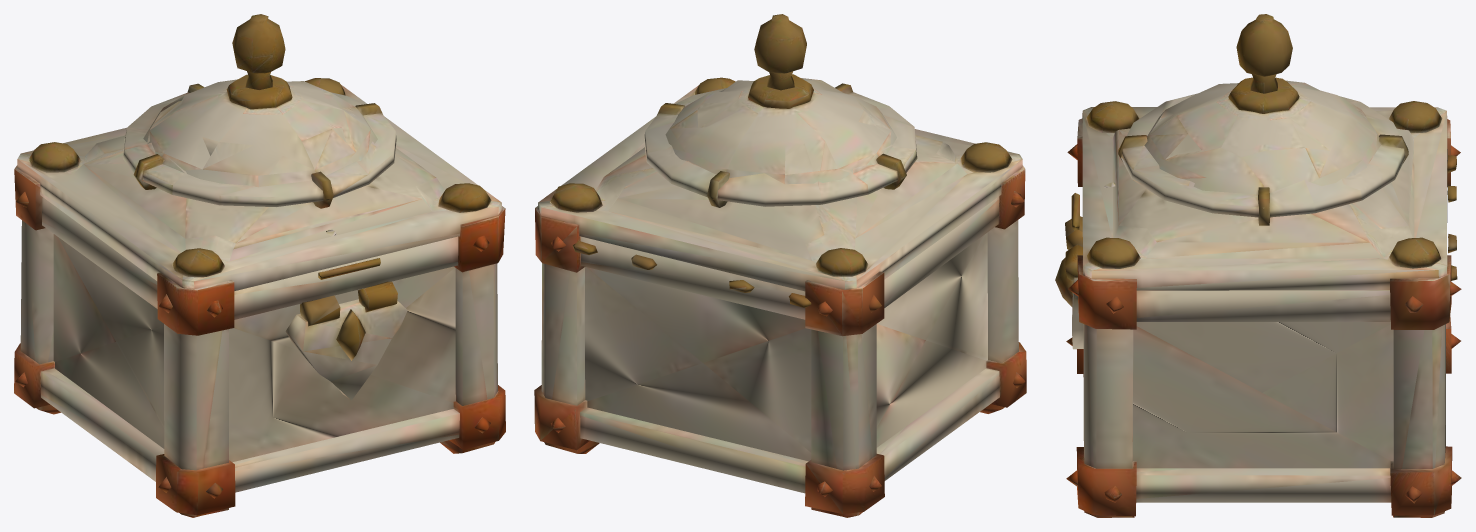
The model's file is cache-box.glb.
3 renders of one model, left to right at view 1: azimuth 30°, elevation 25°; view 2: azimuth 150°, elevation 25°; view 3: azimuth 270°, elevation 25°, orthographic. The views are drawn at different scales.
Parts seen in each view (by area): view 1: cache-box; view 2: cache-box; view 3: cache-box.
Part boxes in pixels (<box>): cache-box: <box>14,14,505,517</box>; cache-box: <box>534,14,1026,517</box>; cache-box: <box>1055,14,1461,517</box>.
Size of the model in its own units: 0.7 by 0.7846 by 0.6788.
Materials: 1 (1 with a texture image).
